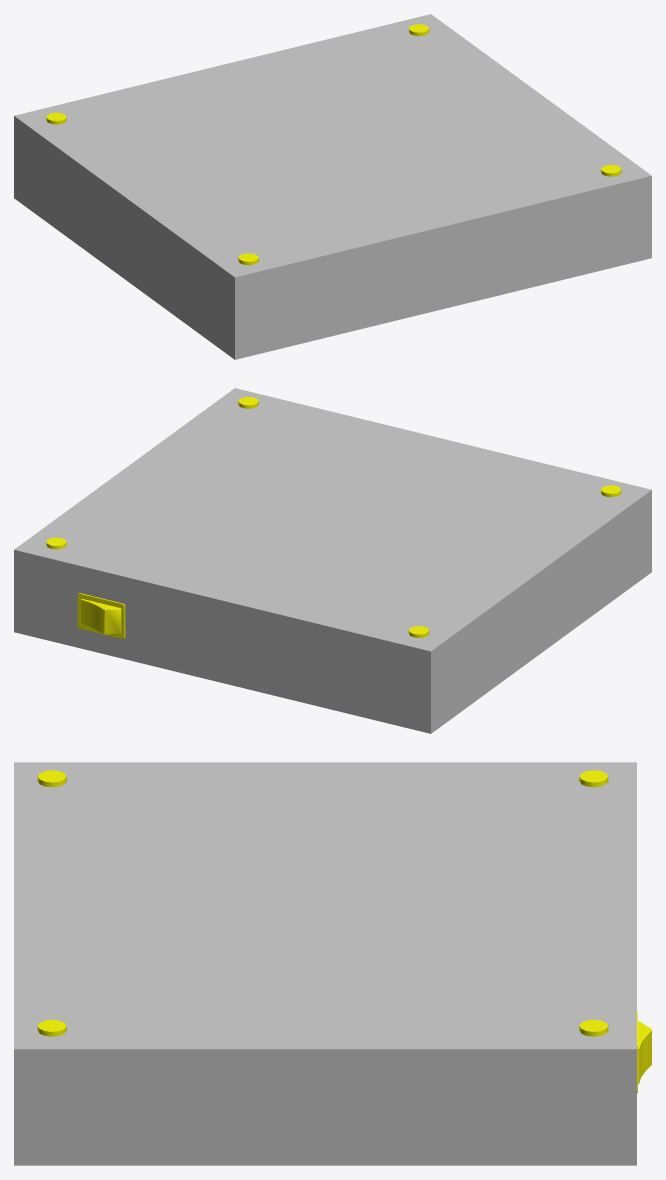
The model's file is sm_hana_acs_door_controller.glb.
3 views of the same model, one above another, from view 1: azimuth 30°, elevation 25°; view 2: azimuth 150°, elevation 25°; view 3: azimuth 270°, elevation 25° (orthographic). The views are drawn at different scales.
Parts seen in each view (by area): view 1: sm_color_common, sm_hana_acs_door_controller; view 2: sm_color_common, sm_hana_acs_door_controller; view 3: sm_color_common, sm_hana_acs_door_controller.
Boxes of the visible parts, left/top/right/bottom form: sm_color_common: left=14, top=14, right=651, bottom=359; sm_hana_acs_door_controller: left=46, top=24, right=621, bottom=265; sm_color_common: left=14, top=388, right=651, bottom=733; sm_hana_acs_door_controller: left=46, top=397, right=621, bottom=639; sm_color_common: left=14, top=762, right=636, bottom=1165; sm_hana_acs_door_controller: left=37, top=770, right=651, bottom=1092.
Size of the model in its own units: 0.7311 by 0.1438 by 0.6873.
2 materials, 1 textured.
